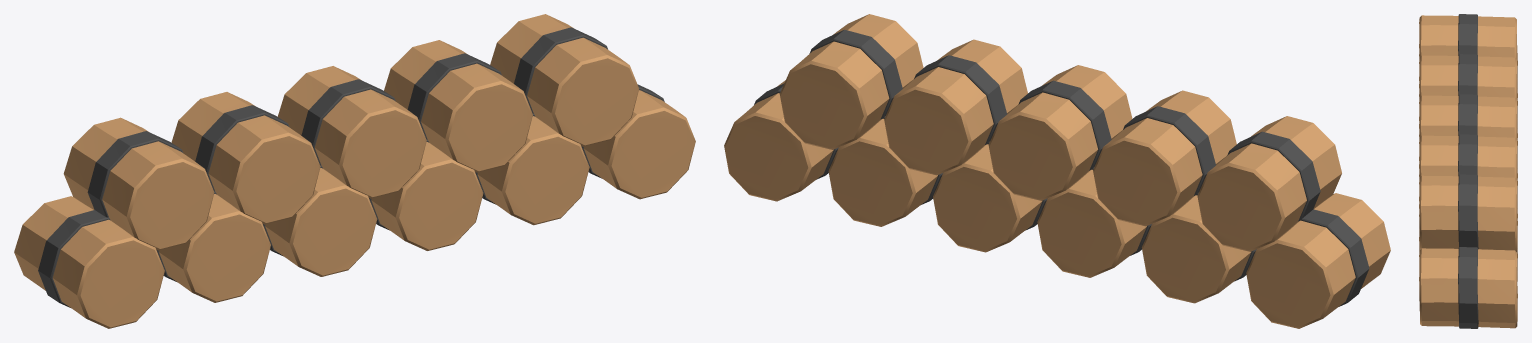
Rendered from 013 Dry_Grass_roll_Group.FBX.
3 views of the same model, side by side, from view 1: azimuth 30°, elevation 25°; view 2: azimuth 150°, elevation 25°; view 3: azimuth 270°, elevation 25° (orthographic). The views are drawn at different scales.
Visible parts, largest first — view 1: Cylinder154; view 2: Cylinder154; view 3: Cylinder154.
Part boxes in pixels (x1=…): Cylinder154: x1=14, y1=14, x2=695, y2=328; Cylinder154: x1=724, y1=14, x2=1390, y2=328; Cylinder154: x1=1419, y1=14, x2=1517, y2=328.
Bounding box in the file's own units: 572 × 139 × 101.
